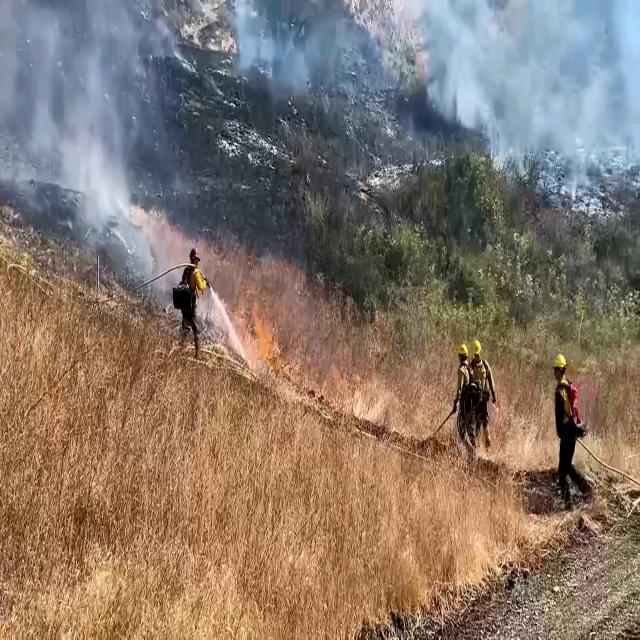Fire: (238, 284, 284, 377)
Smoke: (230, 0, 640, 158), (0, 0, 190, 284)
